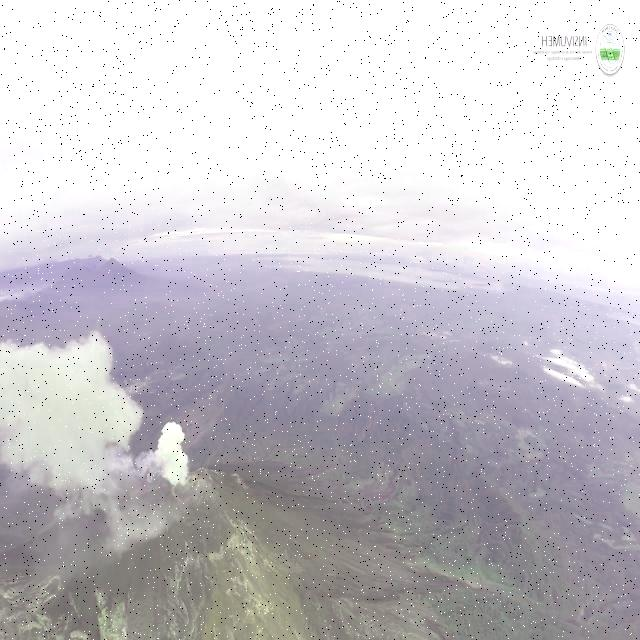Plume: (0, 323, 147, 518), (153, 414, 193, 491)
Summit: (182, 458, 212, 518)
